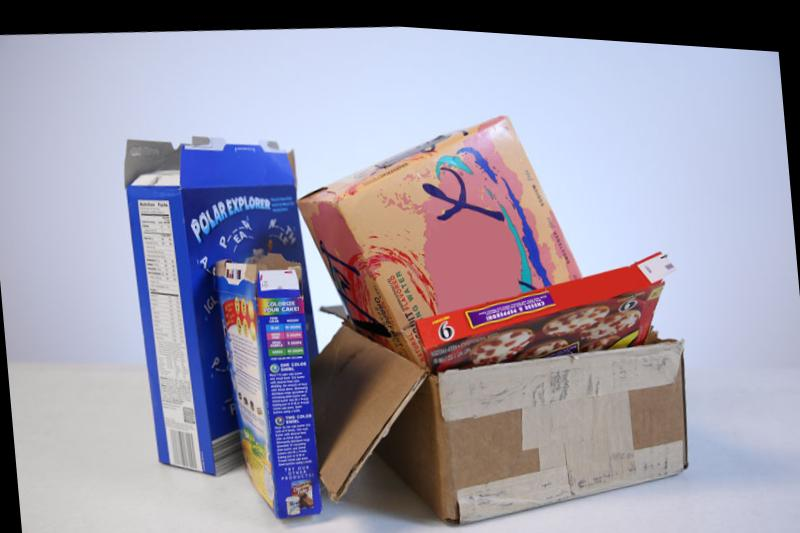cardboard: (300, 117, 672, 371), (124, 137, 321, 519), (379, 341, 686, 524), (214, 251, 321, 519), (312, 326, 425, 500)
